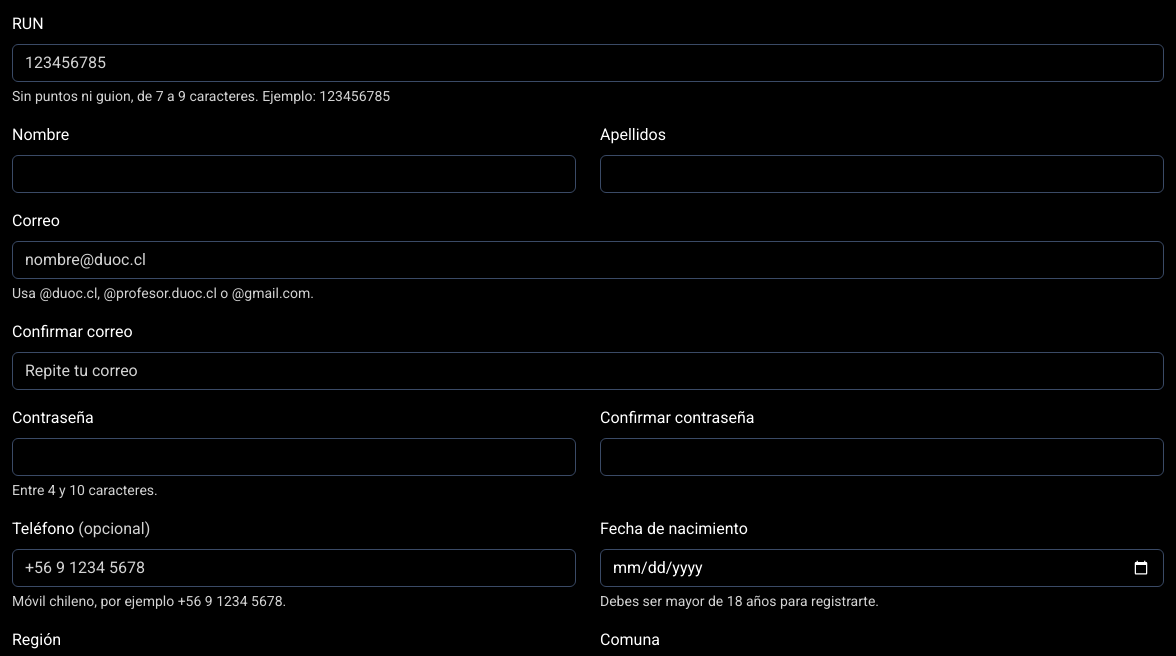
FormUsuario (modo registro) › rechaza un RUN con dígito verificador incorrecto y uno ya registrado
Step 1. Type "123456784" into the field labelled "RUN" → (588, 63), box [12,44,1164,82]
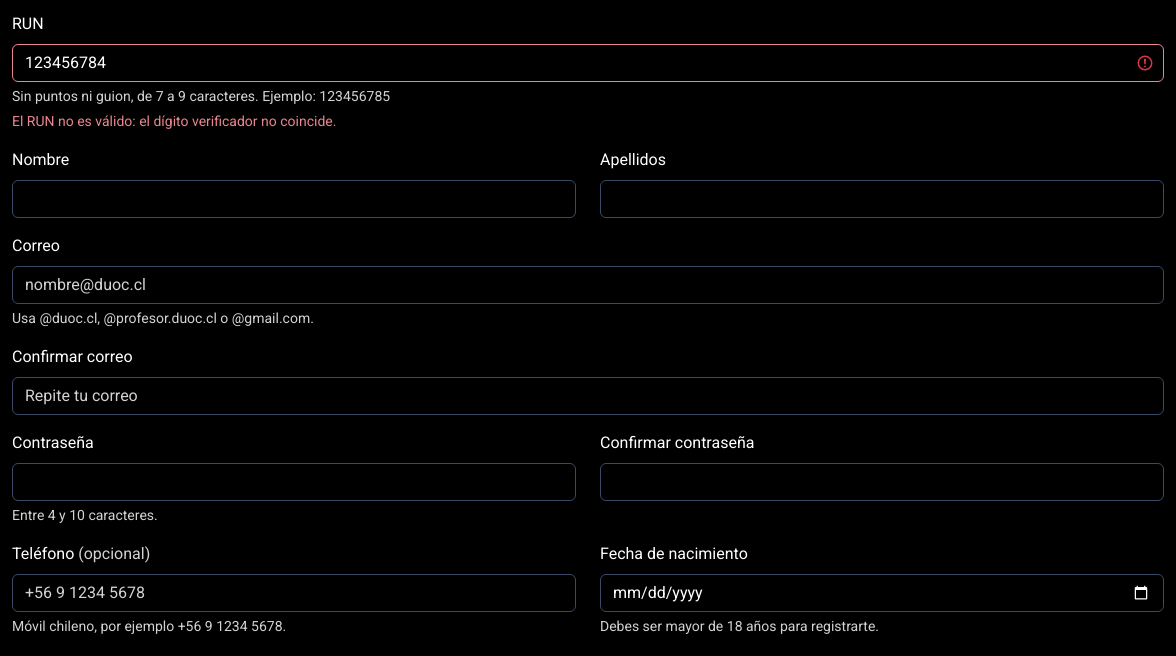
Expected: the text "El RUN no es válido: el dígito verificador no coincide." is shown, [12,113,336,129]
Step 2. Replace the text in the field labelled "RUN" with "123456785" → (588, 63), box [12,44,1164,82]
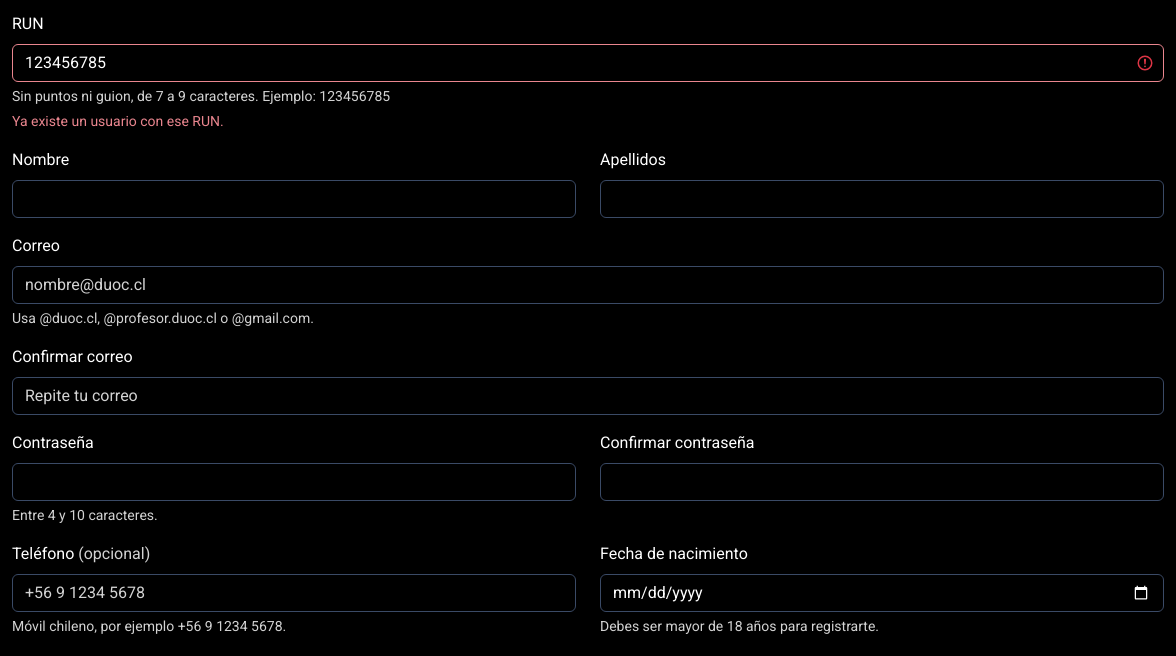
Expected: the text "Ya existe un usuario con ese RUN." is shown, [12,113,224,129]
